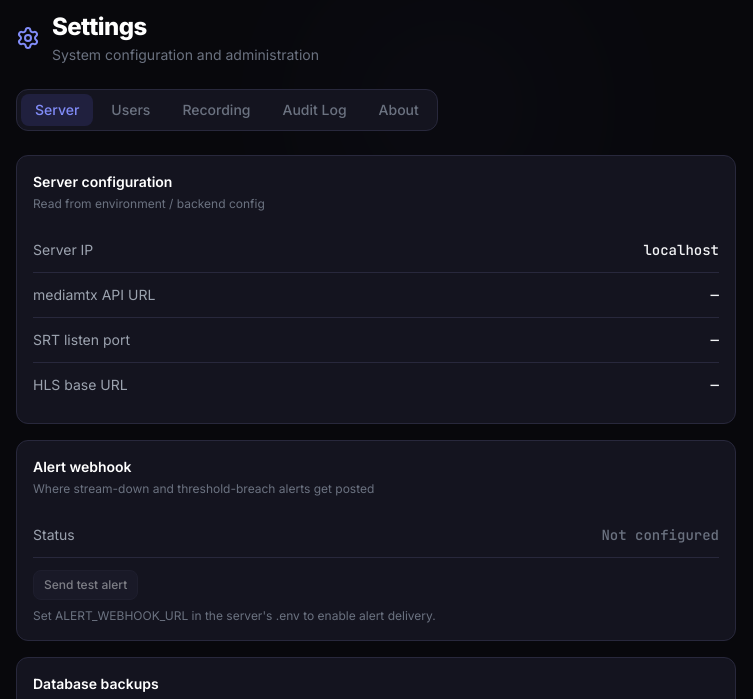
Scenario: SettingsPage › shows the empty state when there are no users
This screenshot has width=753, height=699.
Click the tab "Users" at (131, 110), box [97,94,164,126]
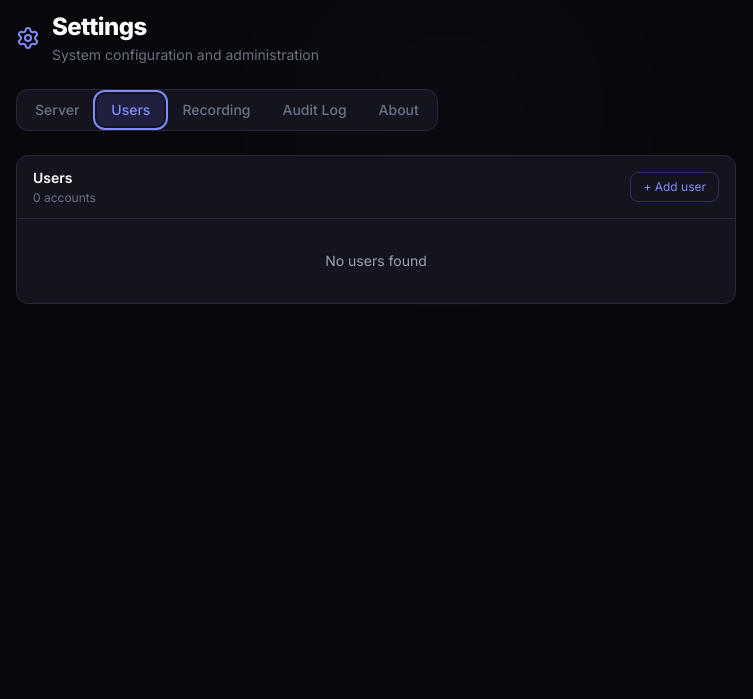
Result: the text "No users found" is shown at [325,252,427,269]
